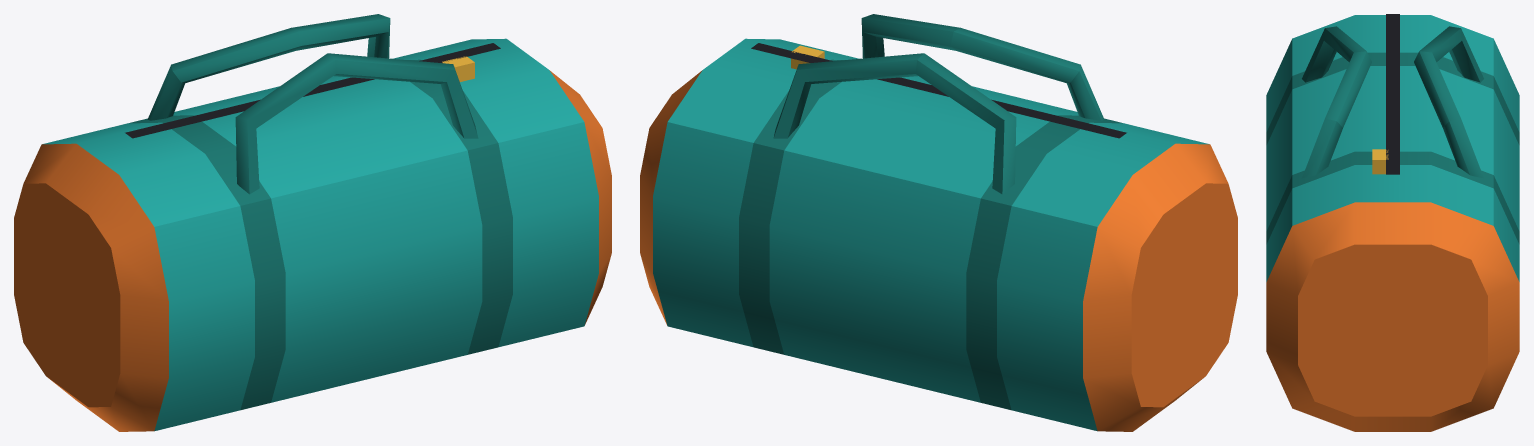
The model's file is Bolso.fbx.
3 views of the same model, side by side, from view 1: azimuth 30°, elevation 25°; view 2: azimuth 150°, elevation 25°; view 3: azimuth 270°, elevation 25° (orthographic). The views are drawn at different scales.
Visible parts, largest first — view 1: Bolso; view 2: Bolso; view 3: Bolso.
Boxes of the visible parts, <box> form: Bolso: <box>14,14,611,431</box>; Bolso: <box>640,14,1237,431</box>; Bolso: <box>1266,14,1519,431</box>.
Size of the model in its own units: 1.6 by 1 by 0.8.
1 material, 1 textured.
